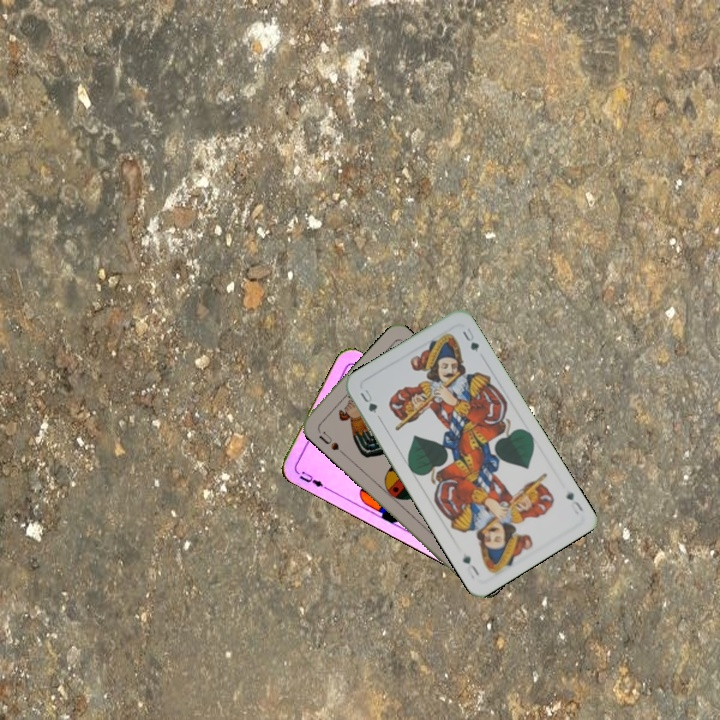EU: (292, 467, 329, 491)
GU: (356, 384, 380, 416), (562, 487, 586, 516)
SU: (313, 425, 346, 457)
